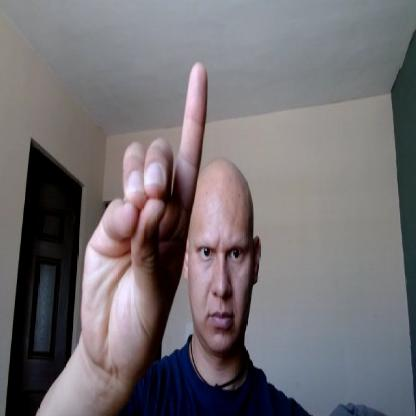D: (84, 62, 210, 360)
